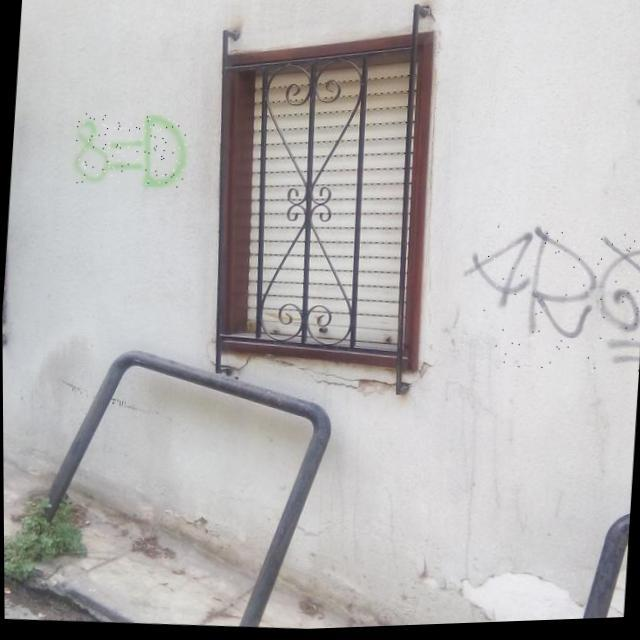-: (457, 222, 640, 384), (73, 110, 188, 192)
